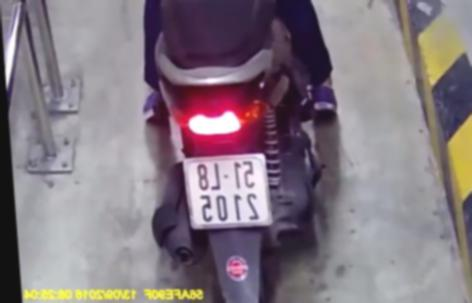License_Plate: (174, 150, 278, 231)
